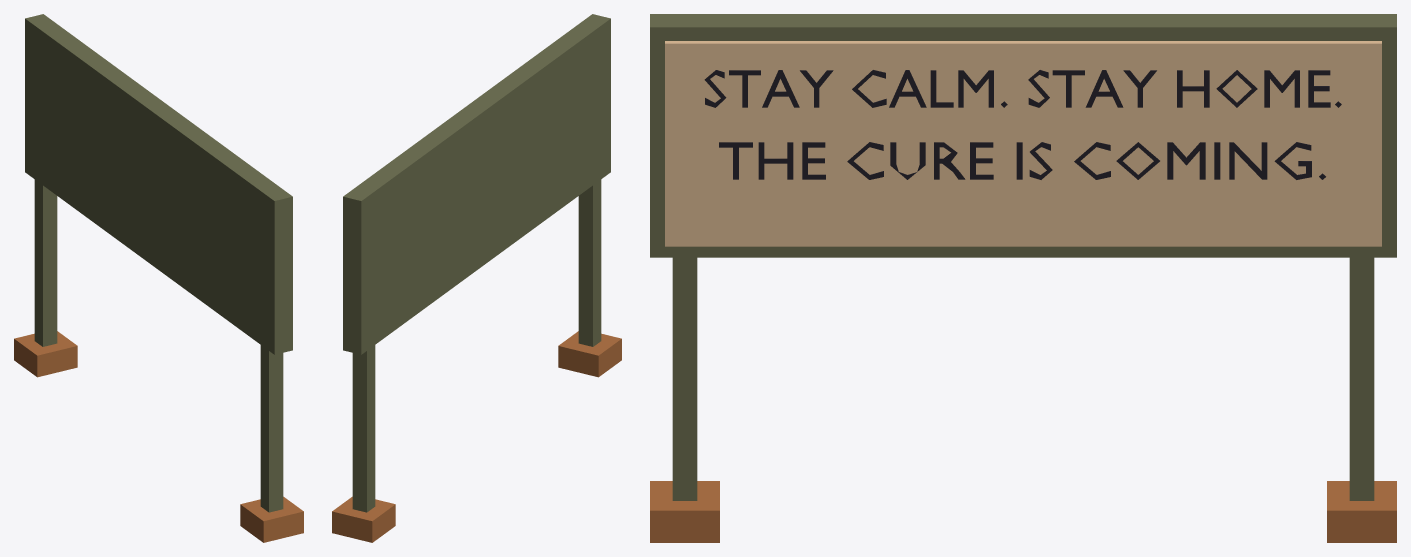
File: prop.l10-cure-billboard.glb
The picture shows the model from 3 angles, left to right: view 1: azimuth 30°, elevation 25°; view 2: azimuth 150°, elevation 25°; view 3: azimuth 270°, elevation 25°; orthographic projection. The views are drawn at different scales.
Visible parts, largest first — view 1: body; view 2: body; view 3: body.
Boxes of the visible parts, x1=… form: body: x1=14, y1=14, x2=303, y2=542; body: x1=332, y1=14, x2=621, y2=542; body: x1=650, y1=14, x2=1396, y2=542.
Bounding box in the file's own units: 0.6999 × 5.62 × 7.5.
